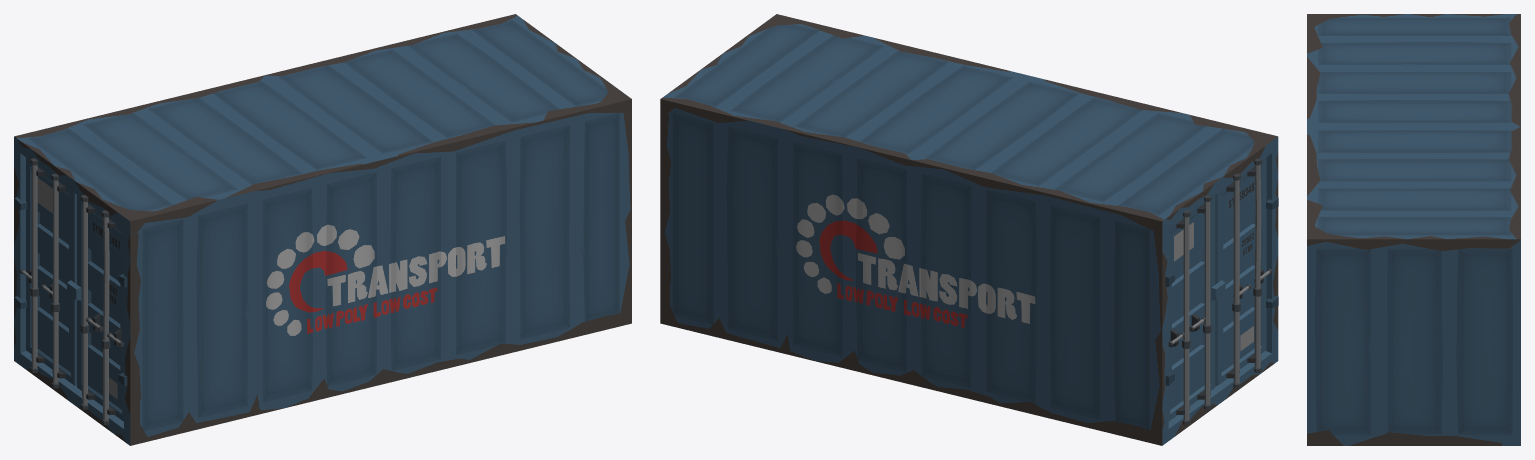
Rendered from SM_Prop_Container_Doors_02.fbx.
The picture shows the model from 3 angles, left to right: view 1: azimuth 30°, elevation 25°; view 2: azimuth 150°, elevation 25°; view 3: azimuth 270°, elevation 25°; orthographic projection. The views are drawn at different scales.
Visible parts, largest first — view 1: SM_Prop_Container_Doors_02; view 2: SM_Prop_Container_Doors_02; view 3: SM_Prop_Container_Doors_02.
Part boxes in pixels (box(x1,y1,x2,y2)): SM_Prop_Container_Doors_02: box(14, 14, 631, 445); SM_Prop_Container_Doors_02: box(660, 14, 1278, 445); SM_Prop_Container_Doors_02: box(1307, 14, 1520, 445).
Size of the model in its own units: 612 by 259 by 243.
